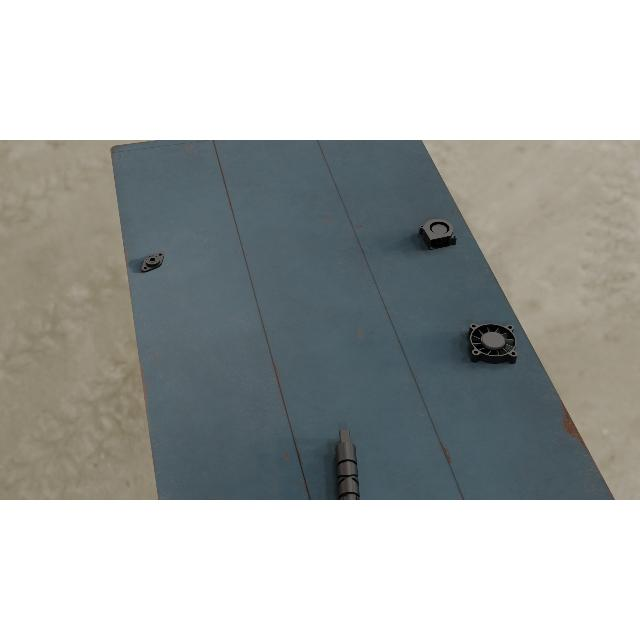Pieza1: (334, 426, 364, 500)
Pieza2: (136, 248, 170, 276)
Pieza3: (418, 216, 458, 252)
Pieza4: (468, 323, 518, 365)
